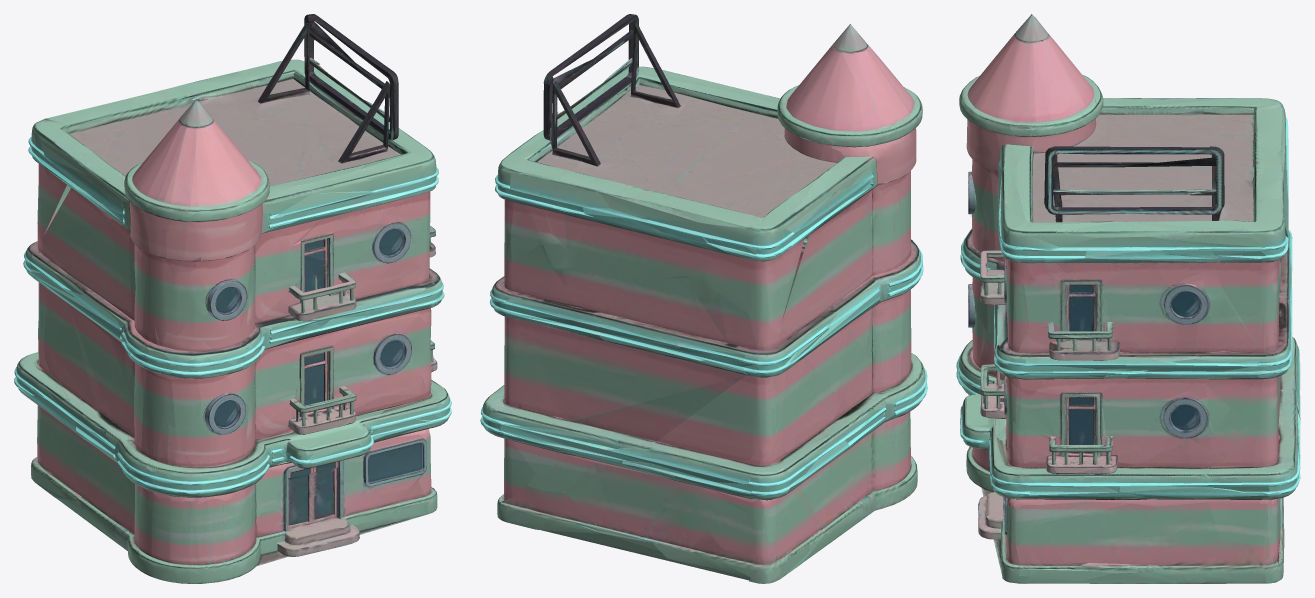
File: hotel.glb
3 renders of one model, left to right at view 1: azimuth 30°, elevation 25°; view 2: azimuth 150°, elevation 25°; view 3: azimuth 270°, elevation 25°, orthographic.
Visible parts, largest first — view 1: Mesh_0; view 2: Mesh_0; view 3: Mesh_0.
Boxes of the visible parts, x1=… form: Mesh_0: x1=14, y1=14, x2=451, y2=583; Mesh_0: x1=480, y1=14, x2=927, y2=583; Mesh_0: x1=956, y1=14, x2=1300, y2=583.
Bounding box in the file's own units: 1.39 × 1.9 × 1.3.
Materials: 1 (1 with a texture image).
